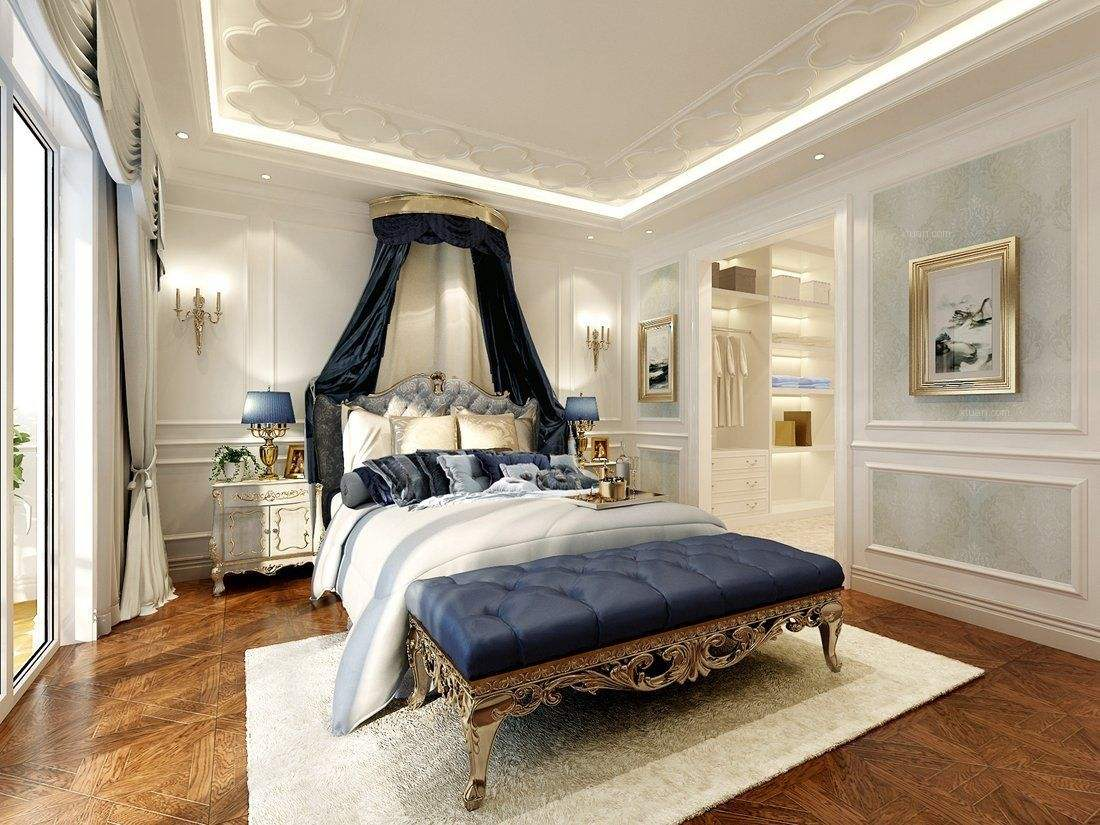床: (333, 486, 850, 736)
枕头: (346, 408, 582, 512)
灯: (160, 267, 236, 361), (236, 387, 295, 475), (572, 303, 613, 380), (565, 395, 599, 460), (253, 171, 278, 190), (813, 153, 837, 170)
